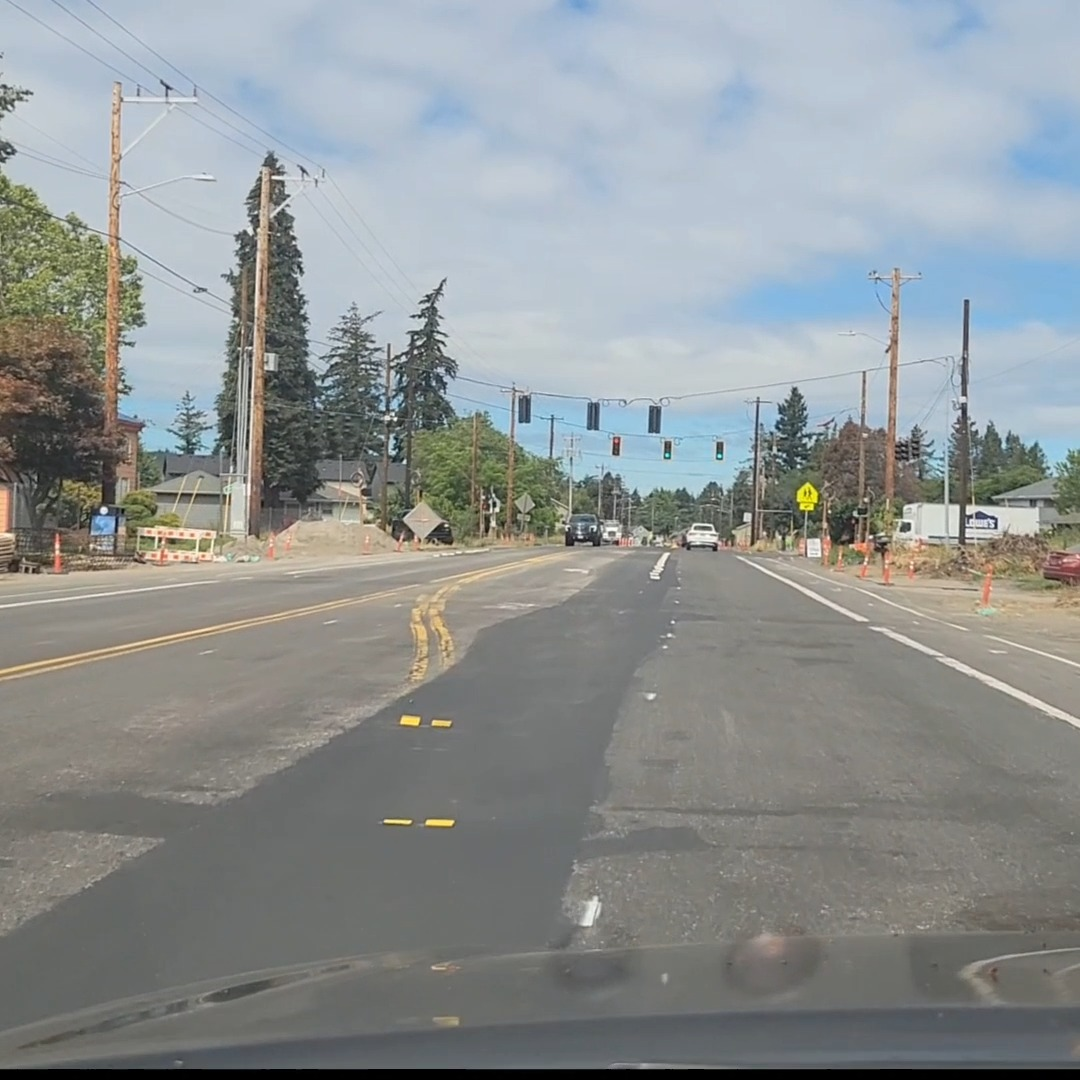car: (391, 516, 449, 544), (564, 513, 600, 545), (681, 522, 720, 551), (598, 520, 622, 545)
crosswalk-sign: (795, 481, 819, 511)
delineator: (975, 566, 998, 615), (51, 533, 64, 573), (880, 549, 892, 585), (858, 548, 869, 578), (906, 548, 916, 579), (266, 531, 276, 559), (834, 544, 844, 571), (157, 540, 168, 563), (362, 532, 371, 554), (395, 534, 404, 552), (284, 531, 291, 551), (502, 531, 511, 544), (414, 534, 421, 549)
